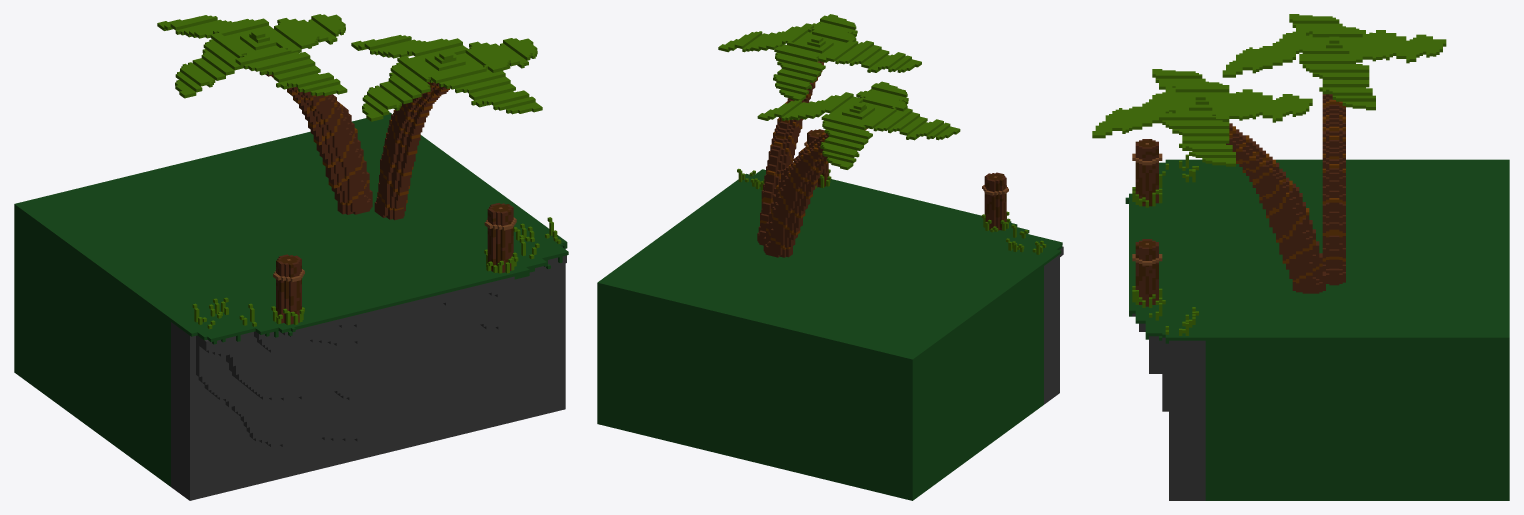
File: penhasco.obj
3 views of the same model, side by side, from view 1: azimuth 30°, elevation 25°; view 2: azimuth 150°, elevation 25°; view 3: azimuth 270°, elevation 25° (orthographic). The views are drawn at different scales.
Visible parts, largest first — view 1: penhasco; view 2: penhasco; view 3: penhasco.
Part boxes in pixels (x1,y1,x2,y2): penhasco: [14, 14, 568, 500]; penhasco: [597, 14, 1063, 500]; penhasco: [1092, 14, 1509, 500].
Bounding box in the file's own units: 126 × 118 × 125.
1 material, 1 textured.
